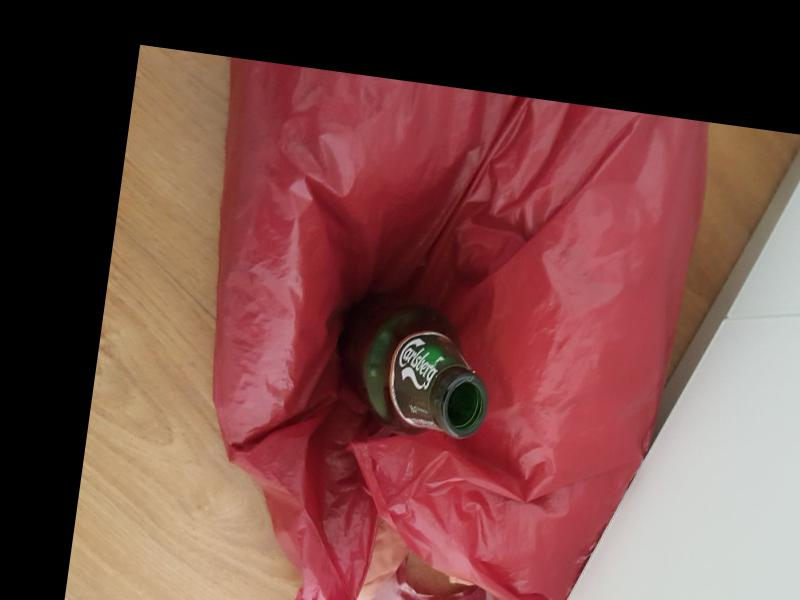Beer: (326, 293, 498, 441)
